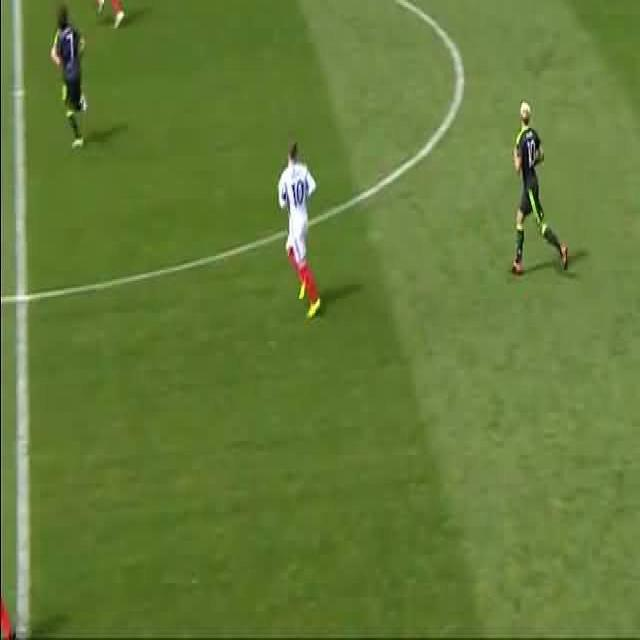player-white: (512, 102, 568, 274), (278, 141, 320, 319), (51, 7, 89, 147), (81, 0, 125, 30)
